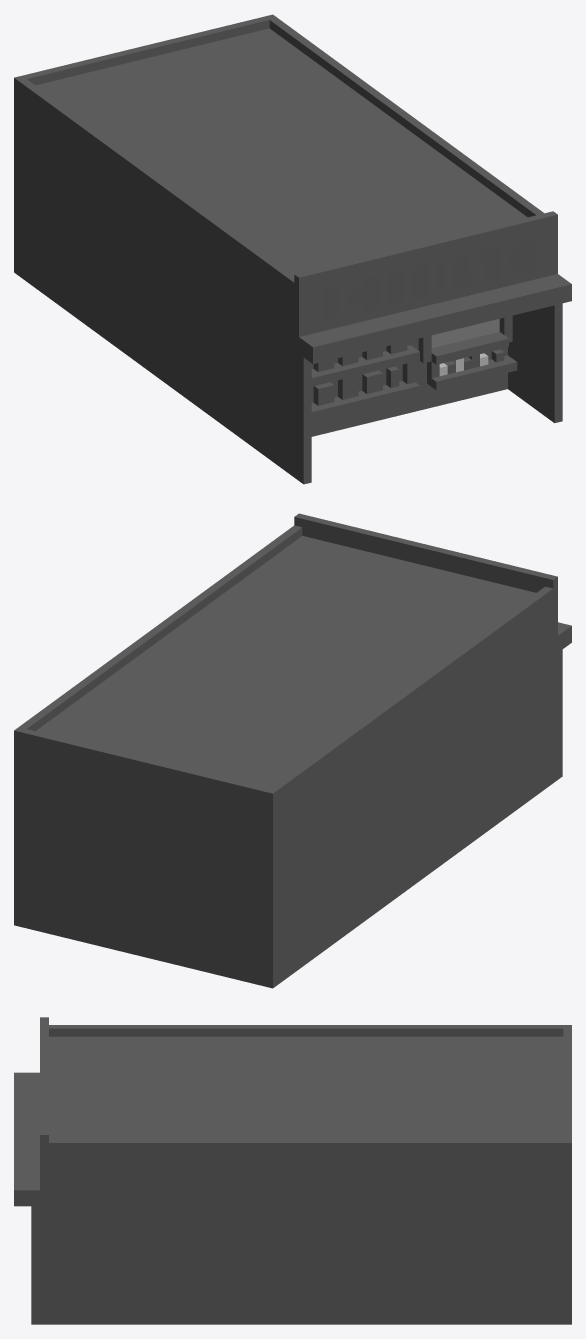
The model's file is bld_store09.obj.
3 renders of one model, top to bottom at view 1: azimuth 30°, elevation 25°; view 2: azimuth 150°, elevation 25°; view 3: azimuth 270°, elevation 25°, orthographic. The views are drawn at different scales.
Bounding box in the file's own units: 32 × 24 × 64.
